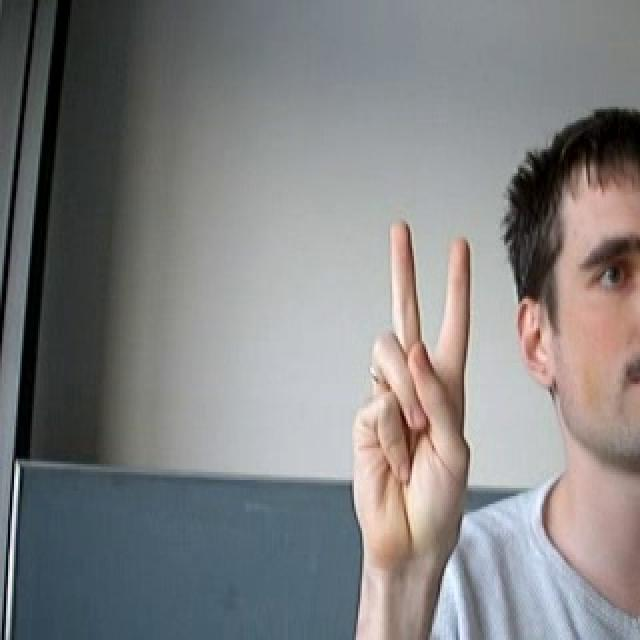V: (342, 215, 493, 567)
